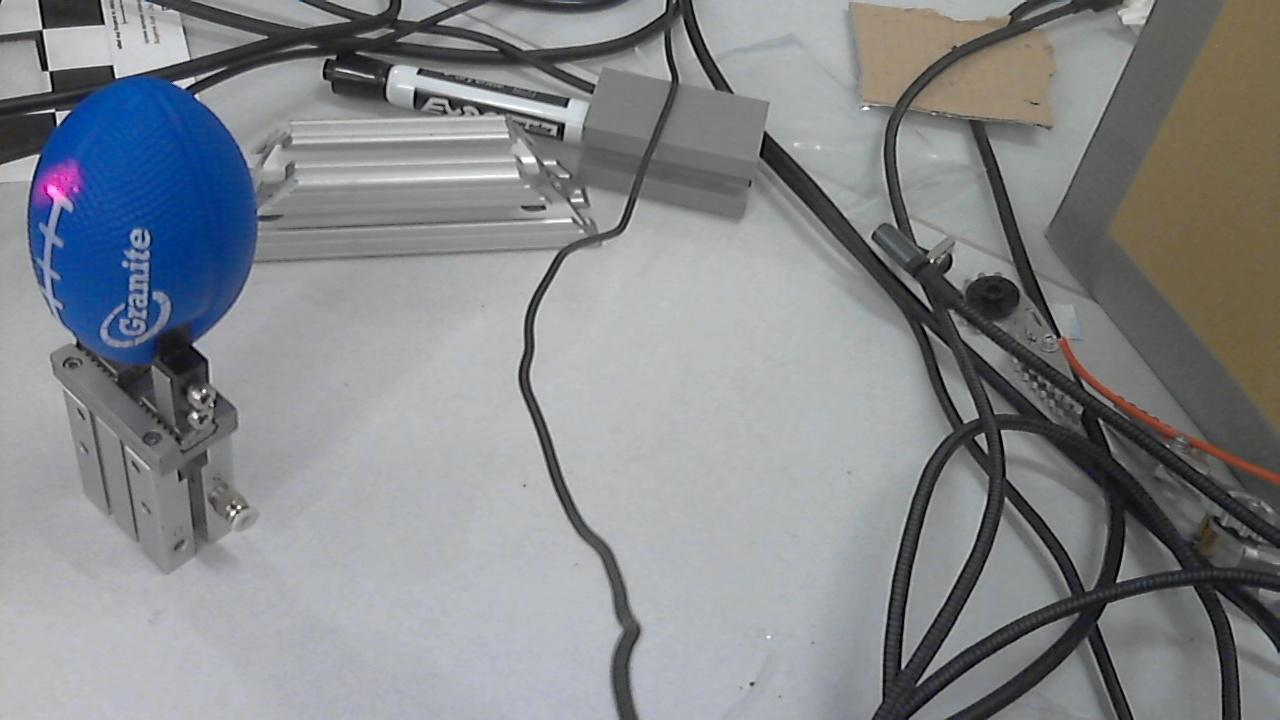Object wireless earbud charging case - Material plastic - Pdfname qzJIPQkli2jB: (12, 157, 112, 220)
